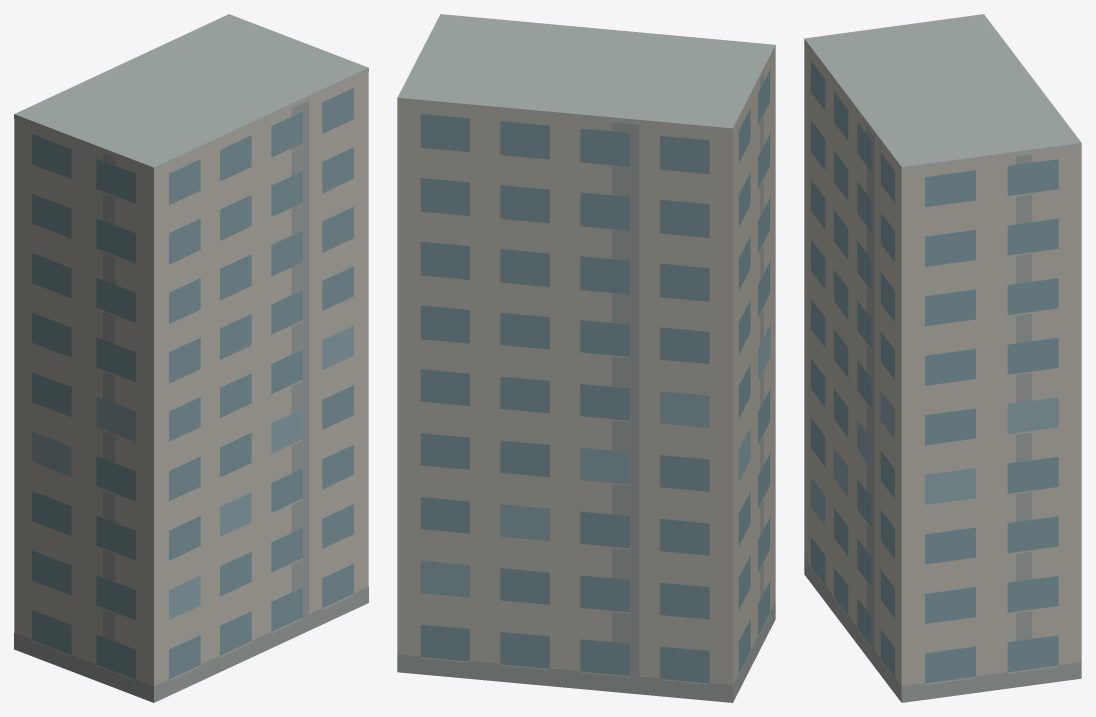
The model's file is residential-876e68f2-e261-49c8-8309-2e2bd0bfba9e.glb.
3 views of the same model, side by side, from view 1: azimuth 30°, elevation 25°; view 2: azimuth 150°, elevation 25°; view 3: azimuth 270°, elevation 25° (orthographic). The views are drawn at different scales.
Parts seen in each view (by area): view 1: residential-876e68f2-e261-49c8-8309-2e2bd0bfba9e.tmp; view 2: residential-876e68f2-e261-49c8-8309-2e2bd0bfba9e.tmp; view 3: residential-876e68f2-e261-49c8-8309-2e2bd0bfba9e.tmp.
Part boxes in pixels (box(x1,y1,x2,y2)): residential-876e68f2-e261-49c8-8309-2e2bd0bfba9e.tmp: box(14, 14, 368, 702); residential-876e68f2-e261-49c8-8309-2e2bd0bfba9e.tmp: box(397, 14, 775, 702); residential-876e68f2-e261-49c8-8309-2e2bd0bfba9e.tmp: box(804, 14, 1081, 702).
Bounding box in the file's own units: 16.56 × 27 × 12.68.
